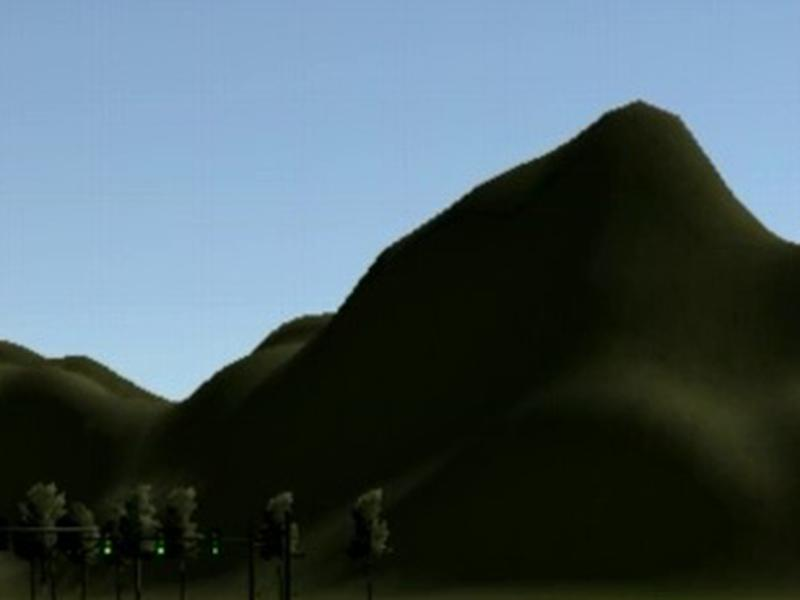Green: (155, 530, 166, 556), (103, 531, 114, 556), (210, 533, 220, 555)
